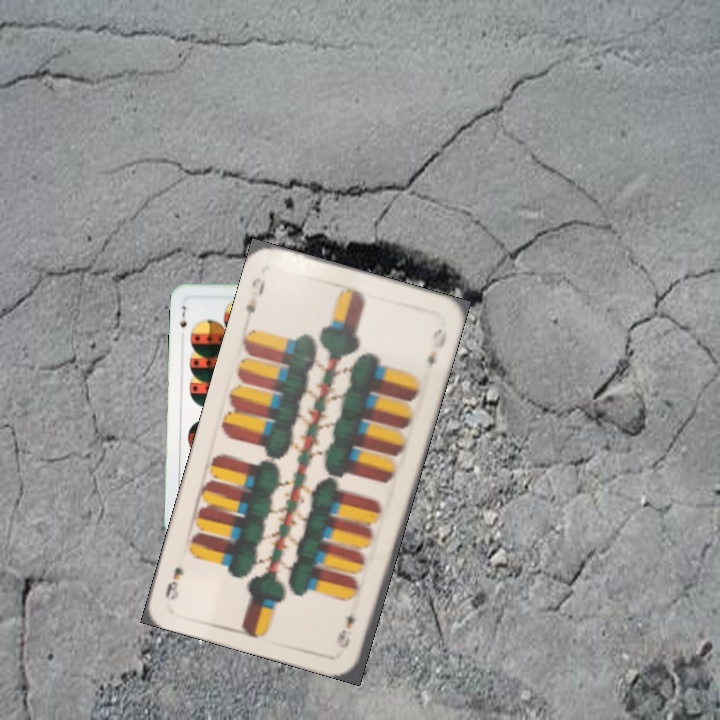E9: (241, 274, 268, 324), (335, 609, 358, 651)
S7: (176, 302, 189, 330)
